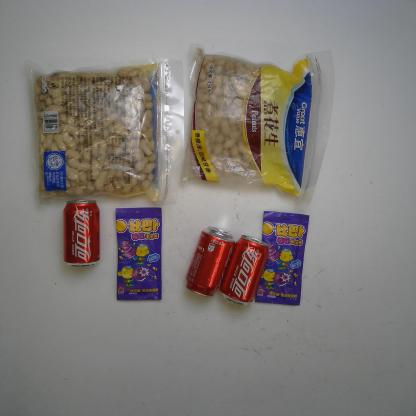Candy: (254, 209, 314, 310), (110, 203, 165, 303)
Dried Food: (171, 37, 340, 202), (23, 54, 179, 207)
Drink: (218, 229, 273, 308), (182, 225, 236, 299), (58, 196, 104, 271)
